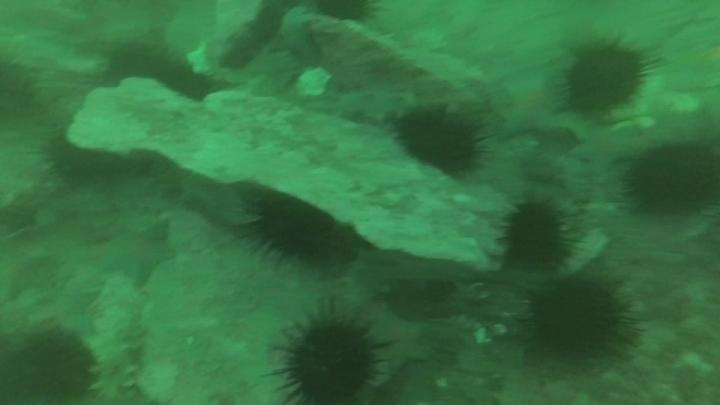echinus: (272, 316, 387, 404), (526, 276, 632, 365), (561, 39, 651, 117), (7, 328, 98, 404), (625, 142, 717, 217), (394, 106, 487, 178), (247, 194, 340, 266), (499, 198, 574, 272), (105, 40, 187, 101), (42, 132, 106, 186), (0, 52, 41, 123), (312, 1, 378, 27)
holothurian: (87, 275, 148, 405), (335, 84, 428, 128)
scallop: (293, 64, 334, 100)
starfish: (96, 217, 176, 289), (494, 69, 567, 142), (367, 307, 433, 377), (567, 122, 637, 175), (0, 237, 52, 303)
